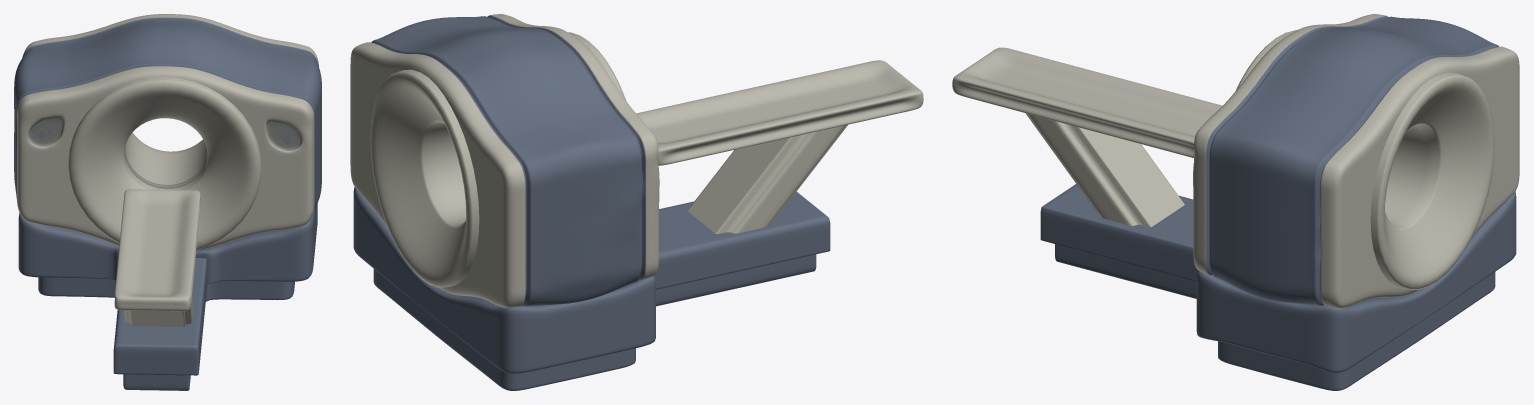
3 views of the same model, side by side, from view 1: azimuth 30°, elevation 25°; view 2: azimuth 150°, elevation 25°; view 3: azimuth 270°, elevation 25° (orthographic). The views are drawn at different scales.
Visible parts, largest first — view 1: Chassis, InnerRing, Base, TableTop, TableBase, TableMid; view 2: Chassis, Base, InnerRing, TableTop, TableBase, TableMid; view 3: Chassis, Base, InnerRing, TableTop, TableBase, TableMid.
Part boxes in pixels (x1,y1,x2,y2): Chassis: [14, 14, 321, 249]; InnerRing: [68, 77, 261, 250]; Base: [18, 203, 317, 301]; TableTop: [114, 189, 200, 311]; TableBase: [113, 258, 207, 390]; TableMid: [124, 294, 193, 326]; Chassis: [350, 14, 659, 308]; Base: [353, 187, 655, 390]; InnerRing: [370, 32, 626, 287]; TableTop: [636, 60, 923, 165]; TableBase: [654, 191, 830, 306]; TableMid: [687, 124, 847, 233]; Chassis: [1193, 14, 1519, 308]; Base: [1196, 191, 1516, 390]; InnerRing: [1236, 29, 1494, 289]; TableTop: [952, 47, 1222, 157]; TableBase: [1040, 184, 1198, 298]; TableMid: [1026, 113, 1184, 226].
Bounding box in the file's own units: 1.7 × 1.13 × 2.07.
1 material, 1 textured.
